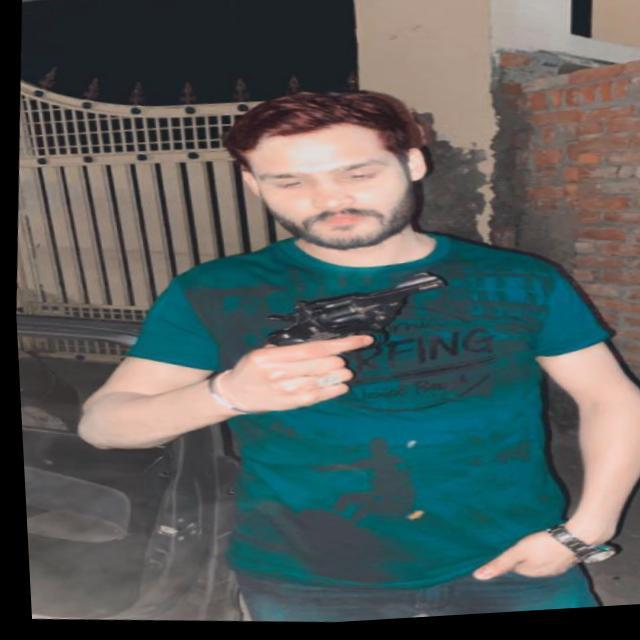weapon: (244, 258, 455, 414)
